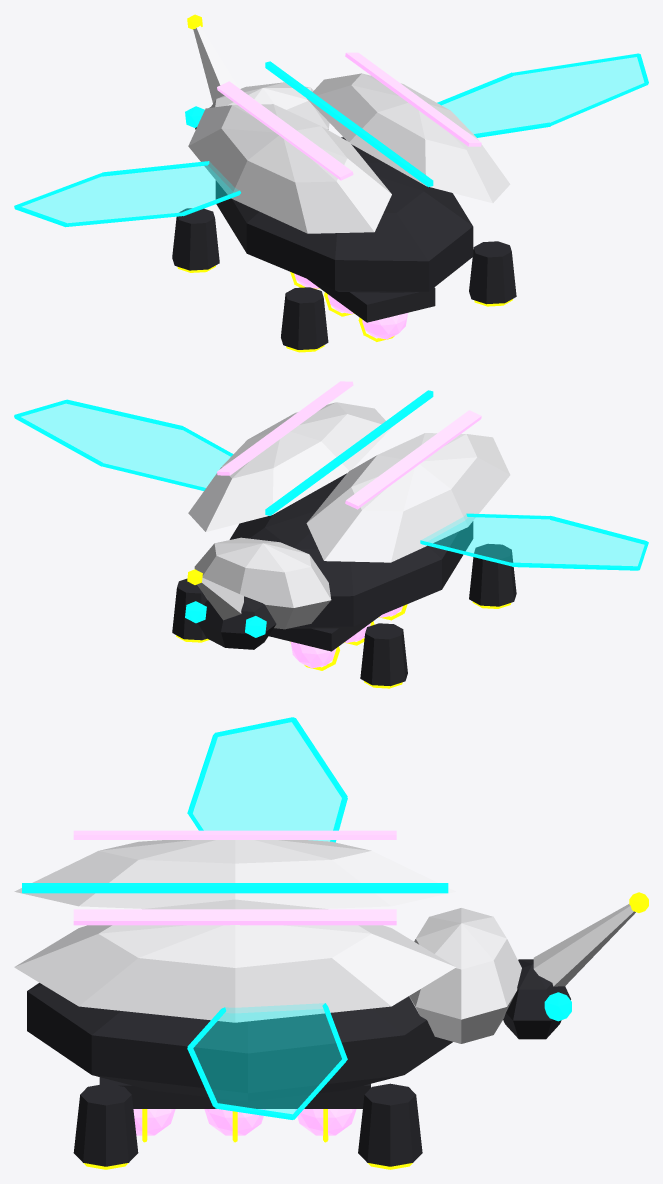
File: BeetleBomber.fbx
3 renders of one model, top to bottom at view 1: azimuth 30°, elevation 25°; view 2: azimuth 150°, elevation 25°; view 3: azimuth 270°, elevation 25°, orthographic. The views are drawn at different scales.
Parts seen in each view (by area): view 1: Bee_Under, Bee_Elytra-1, Bee_Elytra1, BeetleBomber_WingL, BeetleBomber_WingR, Bee_Thruster1, Bee_Thruster3, Bee_Thruster2, Bee_BombRack, Bee_ElytraStripe-1, Bee_Pronotum, Bee_Seam (+5 smaller); view 2: Bee_Elytra-1, Bee_Elytra1, Bee_Under, BeetleBomber_WingL, BeetleBomber_WingR, Bee_Pronotum, Bee_Thruster2, Bee_Thruster3, Bee_ElytraStripe-1, Bee_Head, Bee_Seam, Bee_ElytraStripe1 (+9 smaller); view 3: Bee_Elytra1, Bee_Under, Bee_Elytra-1, BeetleBomber_WingR, BeetleBomber_WingL, Bee_Pronotum, Bee_ElytraStripe1, Bee_Seam, Bee_Thruster0, Bee_Thruster1, Bee_BombRack, Bee_ElytraStripe-1 (+5 smaller).
Part boxes in pixels (left/top/right/bottom): Bee_Under: left=215, top=137, right=473, bottom=292; Bee_Elytra-1: left=188, top=104, right=391, bottom=233; Bee_Elytra1: left=306, top=73, right=510, bottom=203; BeetleBomber_WingL: left=438, top=54, right=645, bottom=133; BeetleBomber_WingR: left=17, top=162, right=238, bottom=222; Bee_Thruster1: left=469, top=241, right=516, bottom=304; Bee_Thruster3: left=281, top=287, right=328, bottom=349; Bee_Thruster2: left=172, top=208, right=219, bottom=270; Bee_BombRack: left=307, top=279, right=435, bottom=322; Bee_ElytraStripe-1: left=217, top=81, right=353, bottom=180; Bee_Pronotum: left=210, top=82, right=329, bottom=129; Bee_Seam: left=265, top=61, right=433, bottom=187; Bee_Elytra-1: left=306, top=433, right=510, bottom=562; Bee_Elytra1: left=188, top=402, right=391, bottom=531; Bee_Under: left=229, top=473, right=473, bottom=628; BeetleBomber_WingL: left=17, top=400, right=232, bottom=487; BeetleBomber_WingR: left=422, top=514, right=645, bottom=566; Bee_Pronotum: left=194, top=537, right=331, bottom=629; Bee_Thruster2: left=360, top=623, right=407, bottom=686; Bee_Thruster3: left=469, top=544, right=516, bottom=606; Bee_ElytraStripe-1: left=345, top=410, right=481, bottom=509; Bee_Head: left=198, top=596, right=276, bottom=649; Bee_Seam: left=265, top=390, right=433, bottom=515; Bee_ElytraStripe1: left=217, top=381, right=353, bottom=475; Bee_Elytra1: left=14, top=899, right=456, bottom=1022; Bee_Under: left=27, top=983, right=452, bottom=1101; Bee_Elytra-1: left=14, top=840, right=455, bottom=908; BeetleBomber_WingR: left=191, top=717, right=344, bottom=841; BeetleBomber_WingL: left=190, top=1004, right=344, bottom=1114; Bee_Pronotum: left=409, top=908, right=521, bottom=1043; Bee_ElytraStripe1: left=73, top=909, right=396, bottom=925; Bee_Seam: left=22, top=883, right=448, bottom=893; Bee_Thruster0: left=358, top=1083, right=422, bottom=1166; Bee_Thruster1: left=73, top=1083, right=138, bottom=1166; Bee_BombRack: left=99, top=1077, right=370, bottom=1108; Bee_ElytraStripe-1: left=73, top=830, right=396, bottom=839.
Size of the model in its own units: 1.46 by 0.4533 by 0.9827.
